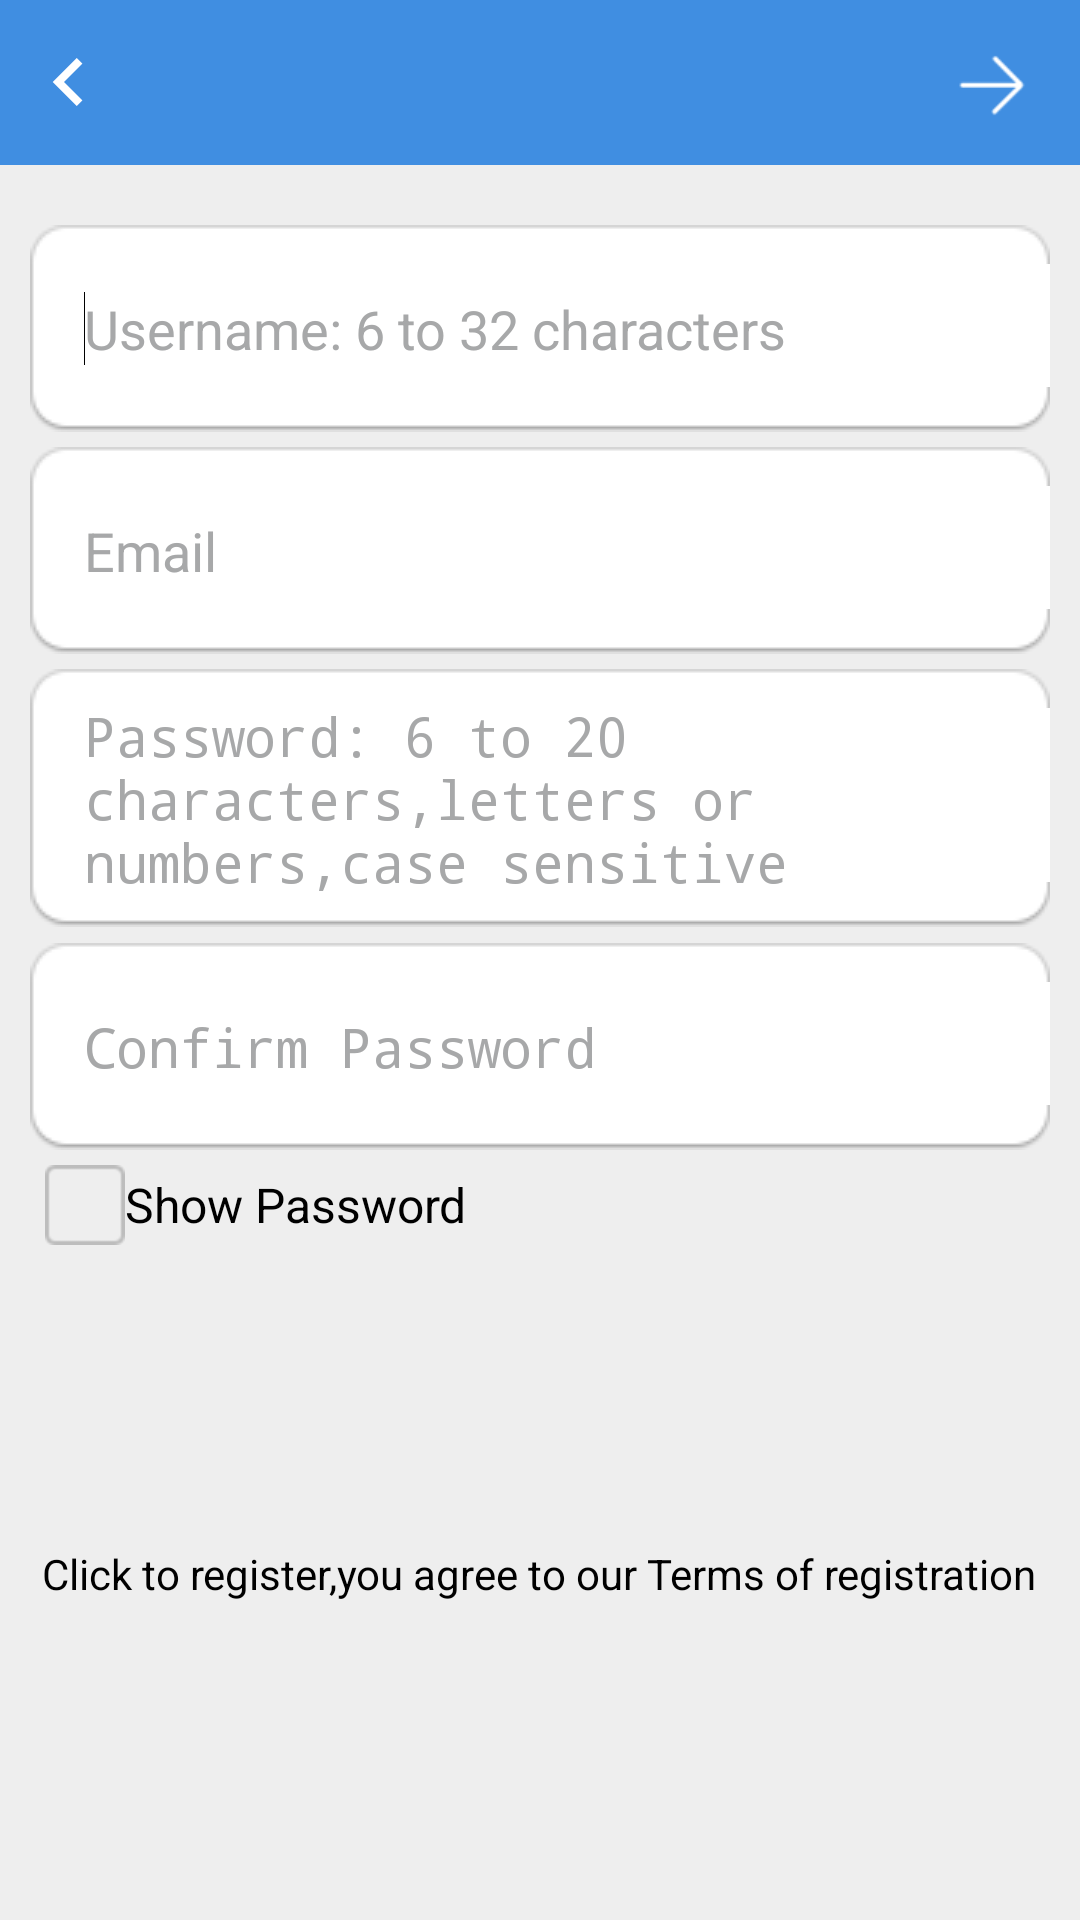

Where icons sit on this 1080 x 1920 app screen, as detection(x1, y1, x2, y2):
back: detection(53, 58, 83, 106)
